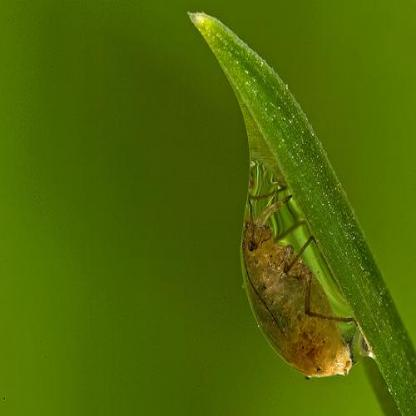aphid: (238, 197, 369, 392)
